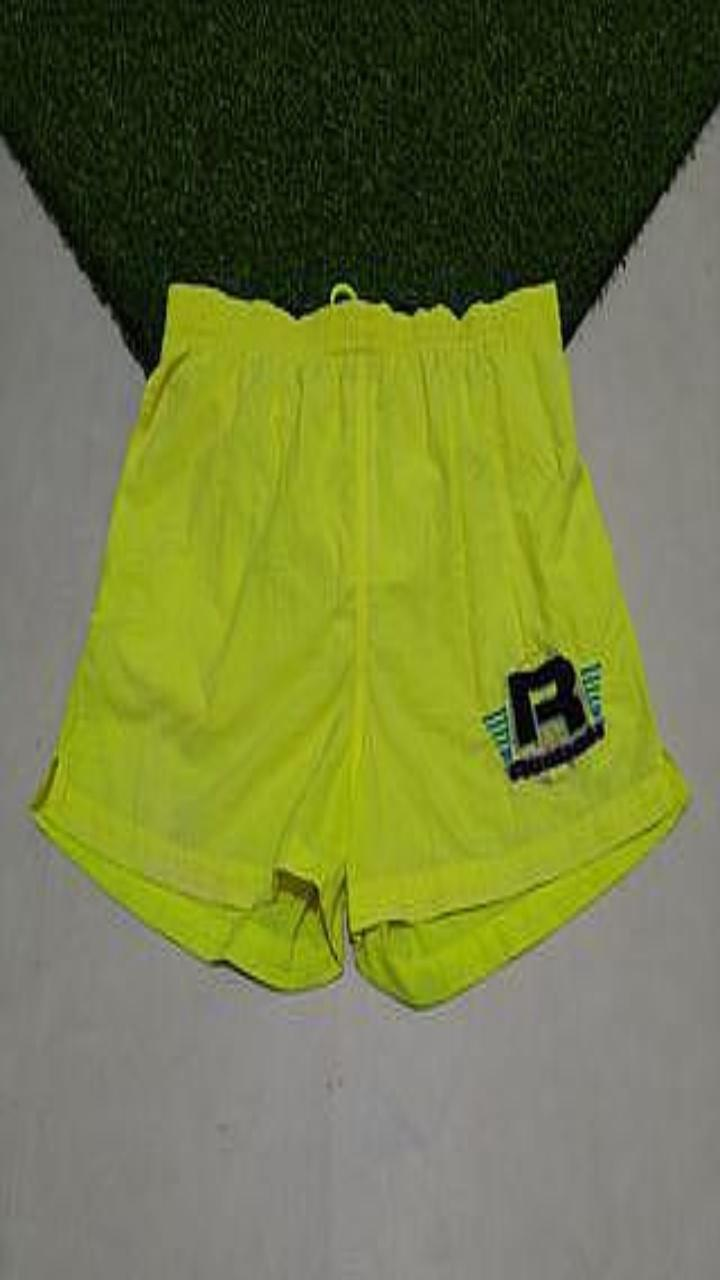Shorts: (31, 283, 688, 1005)
